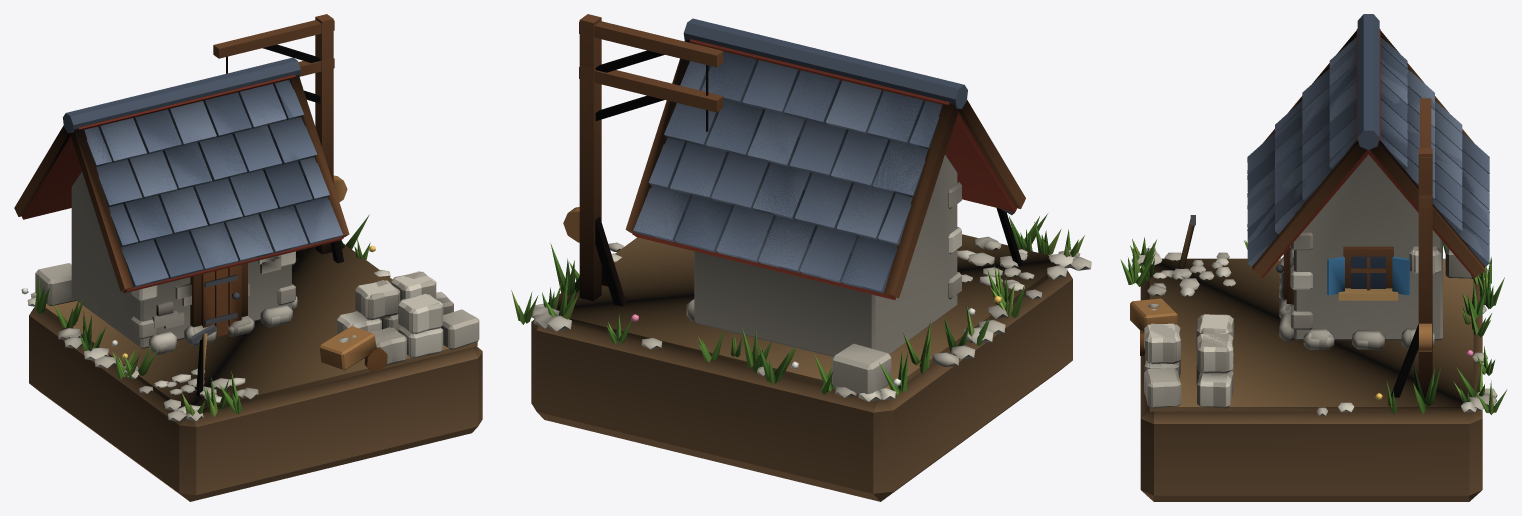
Rendered from quarry.glb.
3 views of the same model, side by side, from view 1: azimuth 30°, elevation 25°; view 2: azimuth 150°, elevation 25°; view 3: azimuth 270°, elevation 25° (orthographic). The views are drawn at different scales.
Visible parts, largest first — view 1: quarry_l1, quarry_l3, quarry_l2; view 2: quarry_l1, quarry_l3, quarry_l2; view 3: quarry_l1, quarry_l3, quarry_l2.
Part boxes in pixels (<box>): quarry_l1: <box>14,55,482,501</box>; quarry_l3: <box>21,14,479,417</box>; quarry_l2: <box>27,80,478,402</box>; quarry_l1: <box>531,18,1091,501</box>; quarry_l3: <box>533,14,1075,395</box>; quarry_l2: <box>511,60,1034,401</box>; quarry_l1: <box>1130,14,1491,501</box>; quarry_l3: <box>1120,37,1497,415</box>; quarry_l2: <box>1144,37,1507,414</box>.
Bounding box in the file's own units: 0.9129 × 0.86 × 0.8847.
